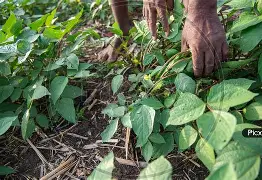crops: (0, 0, 258, 179)
